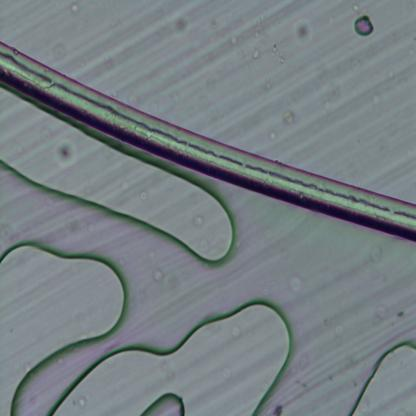Air bubble: (0, 89, 238, 263), (48, 294, 297, 416), (0, 236, 126, 416), (351, 337, 416, 416), (140, 389, 186, 416), (353, 14, 374, 40)
Background material: (53, 137, 78, 168), (289, 268, 307, 294), (291, 22, 310, 45), (53, 38, 70, 63), (171, 12, 188, 35), (282, 106, 299, 127), (146, 266, 165, 284), (190, 210, 206, 230), (270, 400, 284, 416), (370, 90, 382, 108), (68, 0, 80, 16), (394, 305, 406, 318), (321, 102, 331, 112), (252, 50, 260, 60)
Microfibre: (0, 42, 416, 242)
